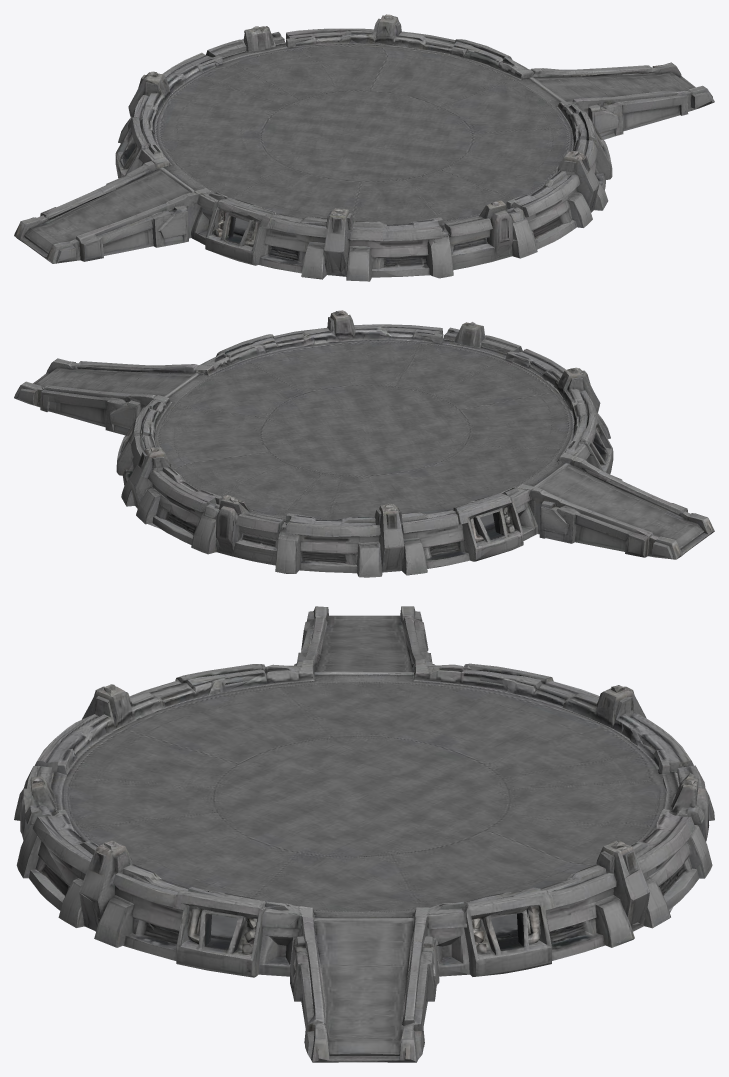
File: imperial_capital_landing_pad_set_lod1.glb
The picture shows the model from 3 angles, top to bottom: view 1: azimuth 30°, elevation 25°; view 2: azimuth 150°, elevation 25°; view 3: azimuth 270°, elevation 25°; orthographic projection. The views are drawn at different scales.
Parts seen in each view (by area): view 1: mesh_node; view 2: mesh_node; view 3: mesh_node.
Boxes of the visible parts, x1,y1,x2,y2 form: mesh_node: (14, 14, 714, 281); mesh_node: (14, 310, 714, 577); mesh_node: (14, 606, 714, 1062).
Bounding box in the file's own units: 71.38 × 6.22 × 47.8.
1 material, 1 textured.
